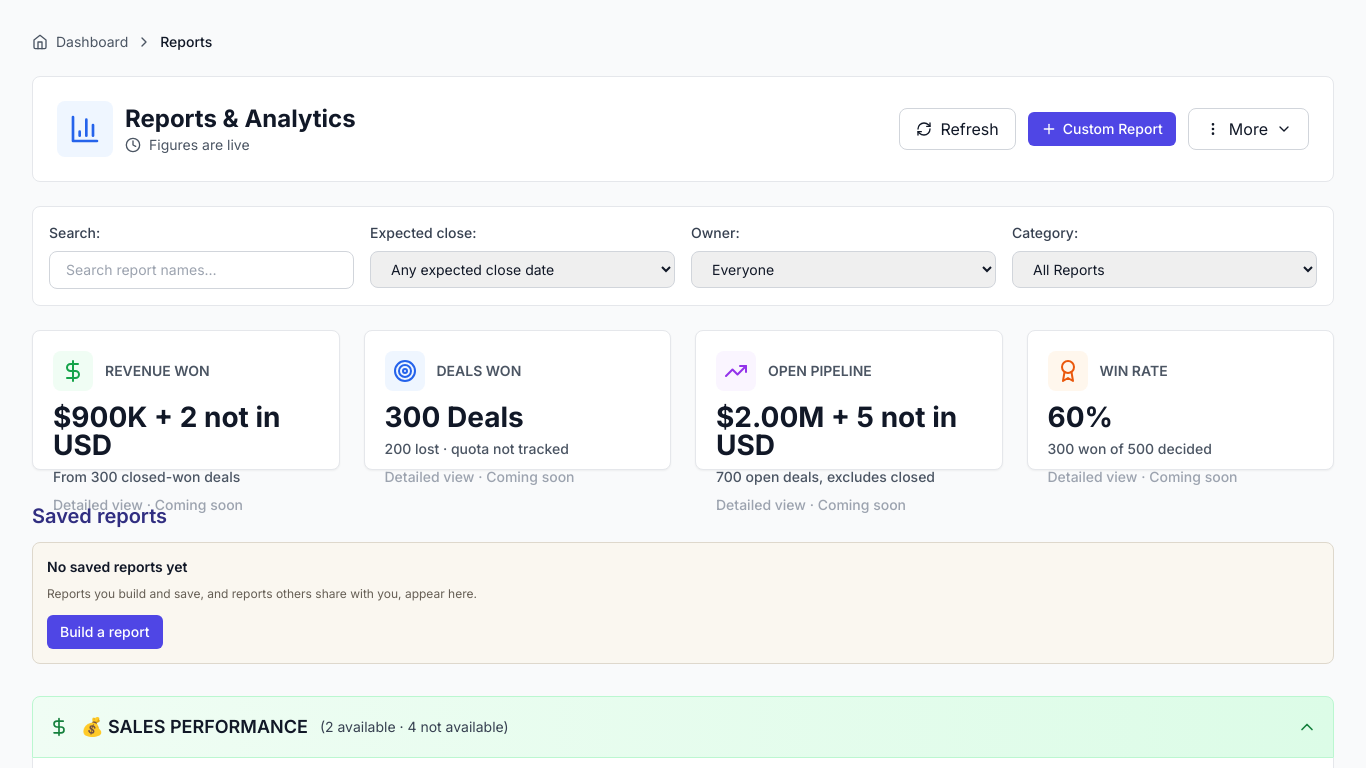
Test case: /crm/reports — server totals › H2: the More menu is disabled "Coming soon" and no card claims there is no quota
This screenshot has width=1366, height=768.
Expected: the text "$900K + 2 not in USD" is shown, left=53, top=403, right=318, bottom=459
What coordinates should you click on to do the following:
click the button "More"
I would click on:
 (1248, 129)
Its box is left=1188, top=108, right=1309, bottom=150.
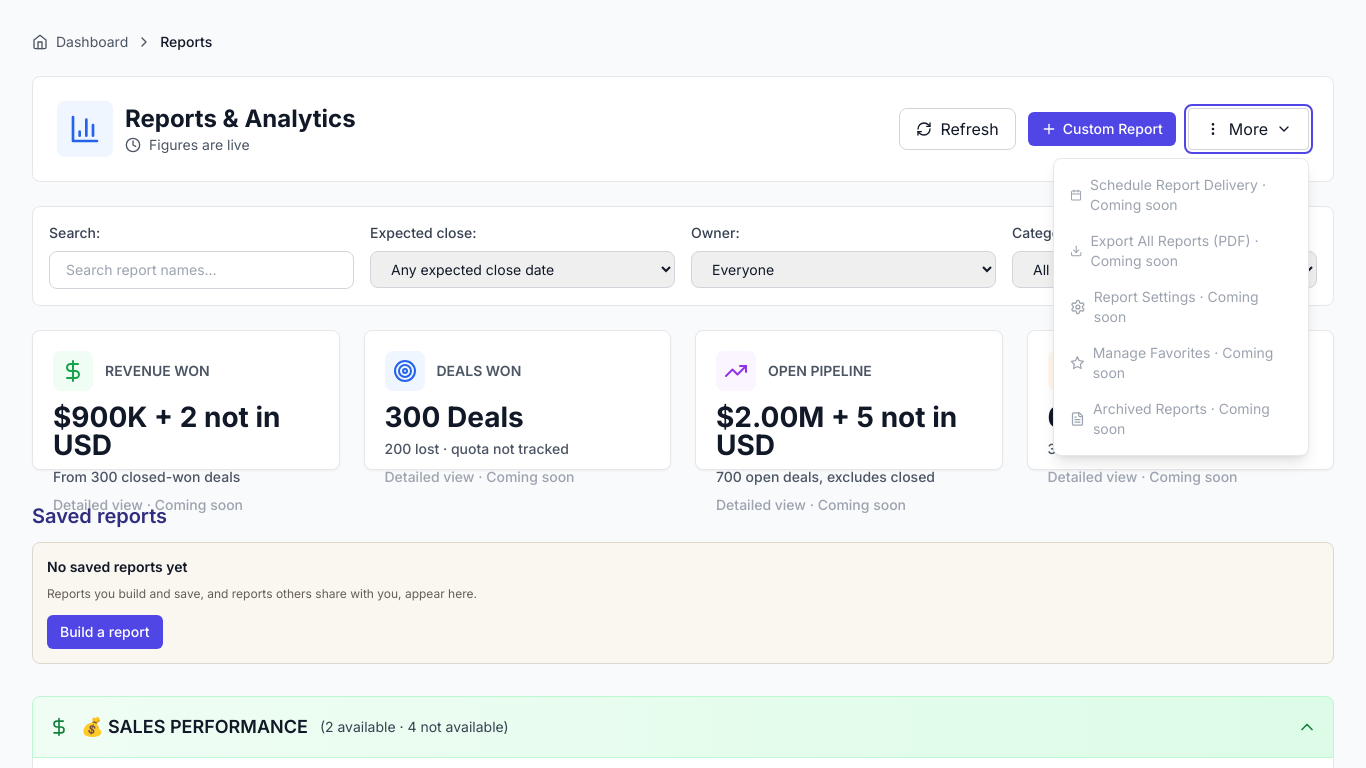
Now the button "Schedule Report Delivery · Coming soon" is disabled, box left=1054, top=167, right=1308, bottom=223
Now the button "Report Settings · Coming soon" is disabled, box left=1054, top=279, right=1308, bottom=335
Now the button "Manage Favorites · Coming soon" is disabled, box left=1054, top=335, right=1308, bottom=391
